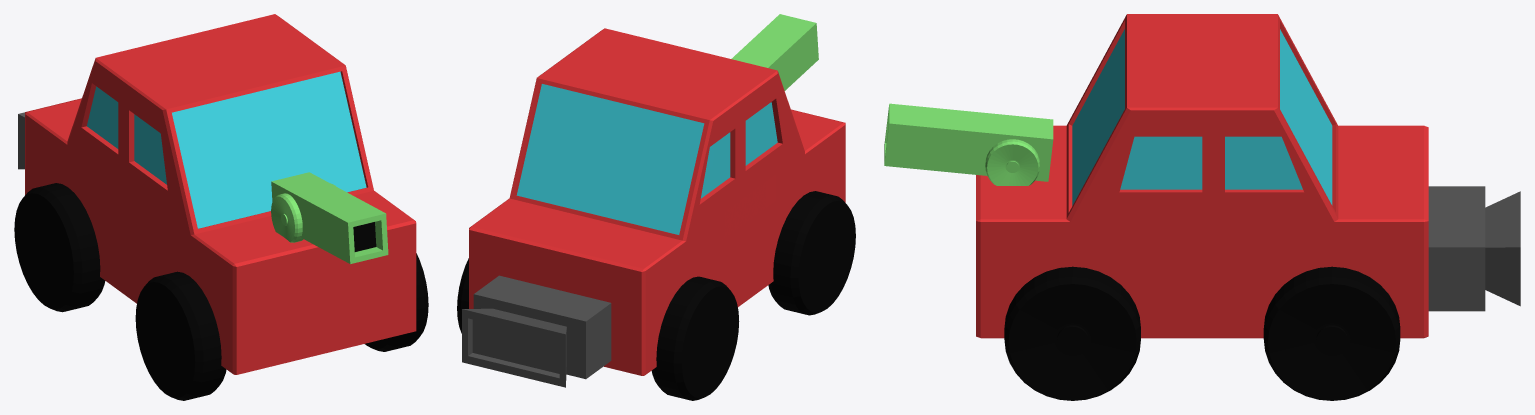
Rendered from car.fbx.
3 views of the same model, side by side, from view 1: azimuth 30°, elevation 25°; view 2: azimuth 150°, elevation 25°; view 3: azimuth 270°, elevation 25° (orthographic). The views are drawn at different scales.
Visible parts, largest first — view 1: Cylinder.003; view 2: Cylinder.003; view 3: Cylinder.003.
Boxes of the visible parts, x1,y1,x2,y2 form: Cylinder.003: [14, 14, 428, 400]; Cylinder.003: [457, 14, 855, 400]; Cylinder.003: [884, 14, 1520, 400].
Size of the model in its own units: 244 by 264 by 540.
